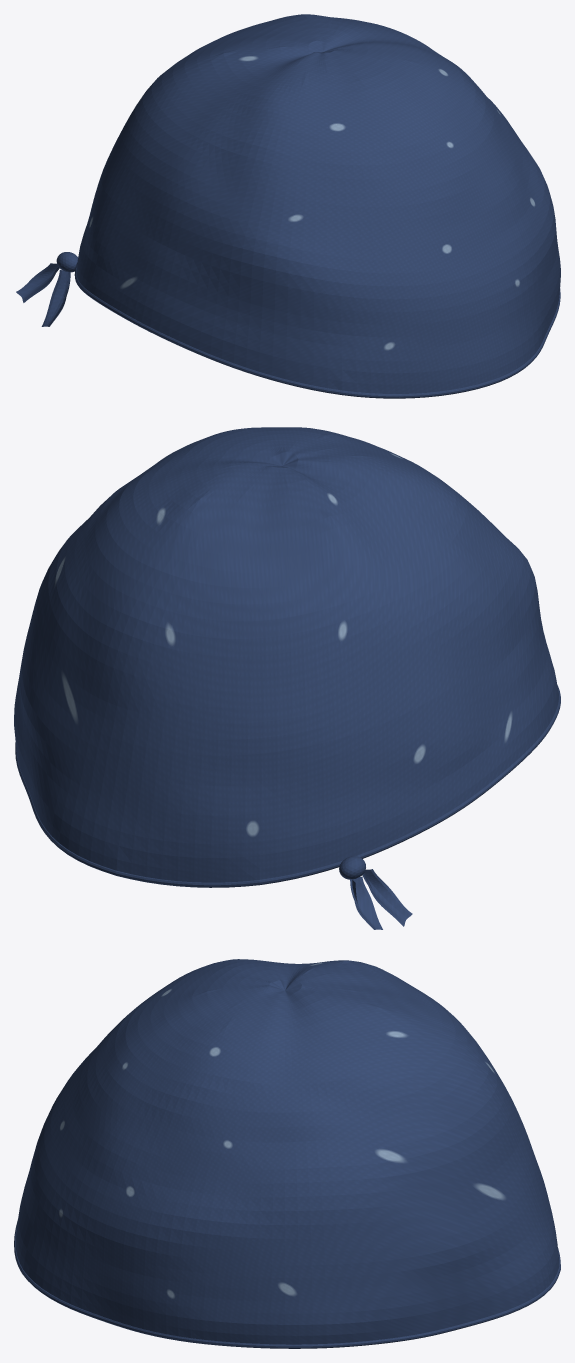
The model's file is side_muika_headcloth.glb.
3 renders of one model, top to bottom at view 1: azimuth 30°, elevation 25°; view 2: azimuth 150°, elevation 25°; view 3: azimuth 270°, elevation 25°, orthographic. The views are drawn at different scales.
Parts seen in each view (by area): view 1: woven_cloth, folded_edge, wrap_ties; view 2: woven_cloth, folded_edge, wrap_ties; view 3: woven_cloth, folded_edge.
Part boxes in pixels (box(x1,y1,x2,y2)): woven_cloth: box(76, 14, 560, 393); folded_edge: box(56, 252, 560, 398); wrap_ties: box(16, 263, 70, 326); woven_cloth: box(14, 427, 558, 882); folded_edge: box(15, 685, 560, 887); wrap_ties: box(350, 869, 412, 929); woven_cloth: box(15, 959, 559, 1344); folded_edge: box(14, 1220, 560, 1348).
Size of the model in its own units: 16.85 by 11.61 by 18.67.
4 materials, 4 textured.
